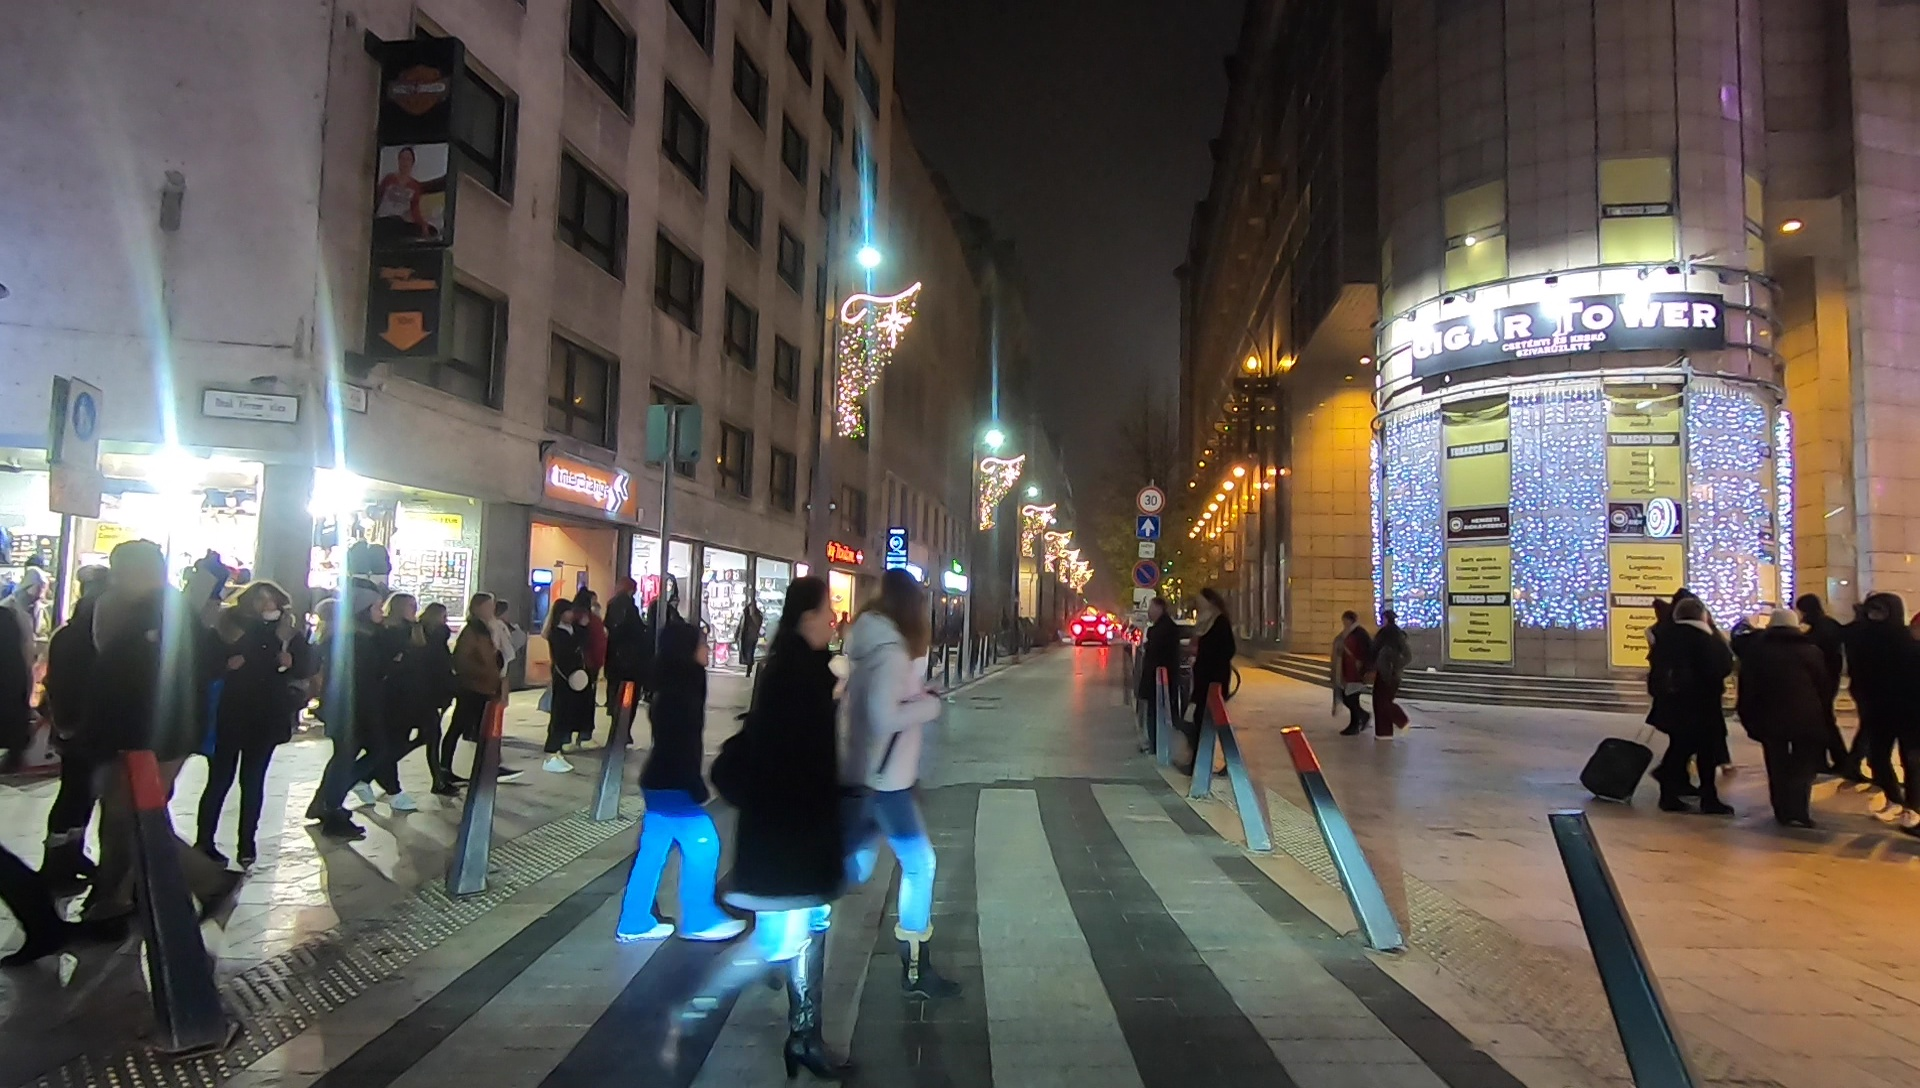person: (673, 572, 853, 1088), (823, 562, 972, 1003), (619, 622, 742, 937), (87, 536, 182, 905), (191, 580, 295, 867), (1838, 592, 1920, 832), (1650, 601, 1737, 824), (1742, 595, 1824, 829), (311, 584, 386, 836), (442, 589, 517, 785), (409, 594, 454, 800), (1799, 595, 1849, 778), (379, 588, 417, 814), (1194, 592, 1238, 776), (1136, 601, 1184, 750), (1369, 605, 1412, 743), (605, 584, 644, 728), (545, 593, 574, 775), (1332, 607, 1369, 732), (575, 593, 601, 750)
